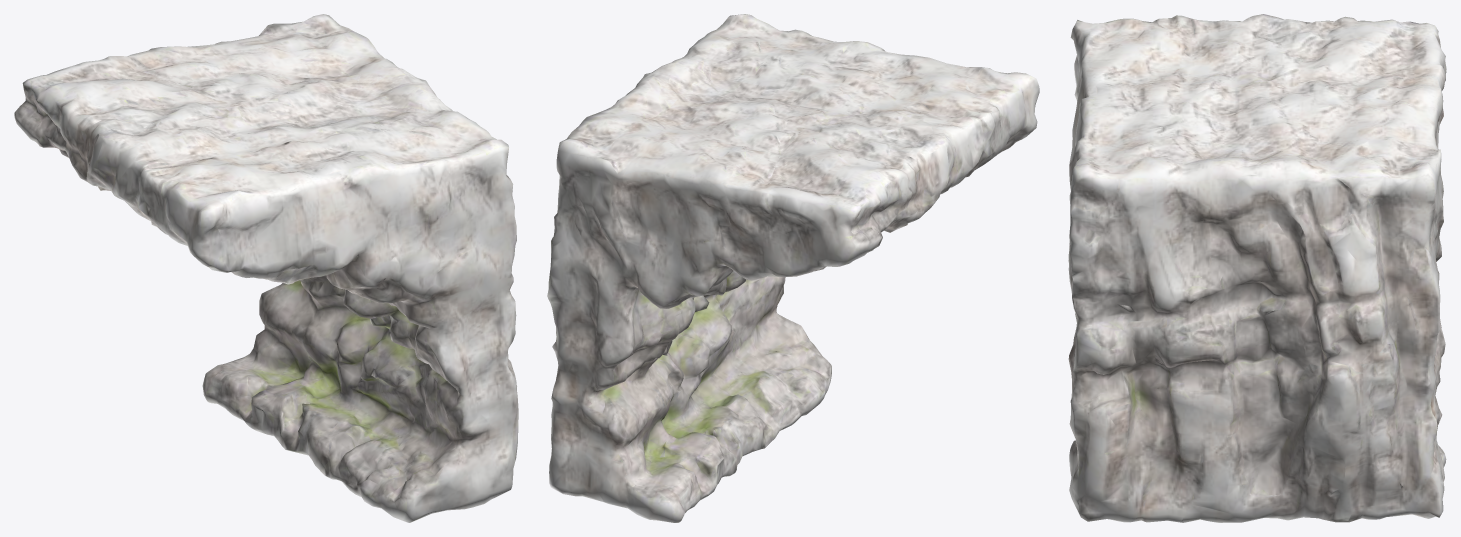
Rendered from SM_rock_05.glb.
The picture shows the model from 3 angles, left to right: view 1: azimuth 30°, elevation 25°; view 2: azimuth 150°, elevation 25°; view 3: azimuth 270°, elevation 25°; orthographic projection.
Visible parts, largest first — view 1: SM_rock_05; view 2: SM_rock_05; view 3: SM_rock_05.
Boxes of the visible parts, left/top/right/bottom form: SM_rock_05: left=14, top=14, right=518, bottom=522; SM_rock_05: left=547, top=14, right=1039, bottom=522; SM_rock_05: left=1068, top=14, right=1446, bottom=522.
Bounding box in the file's own units: 17.95 × 18.01 × 16.55.
1 material, 1 textured.
